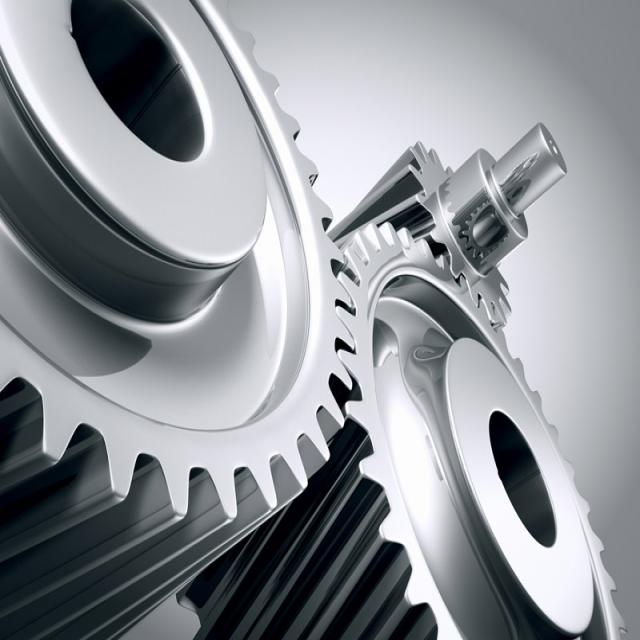Gear: (0, 0, 358, 640), (171, 219, 630, 640), (328, 136, 514, 330)
